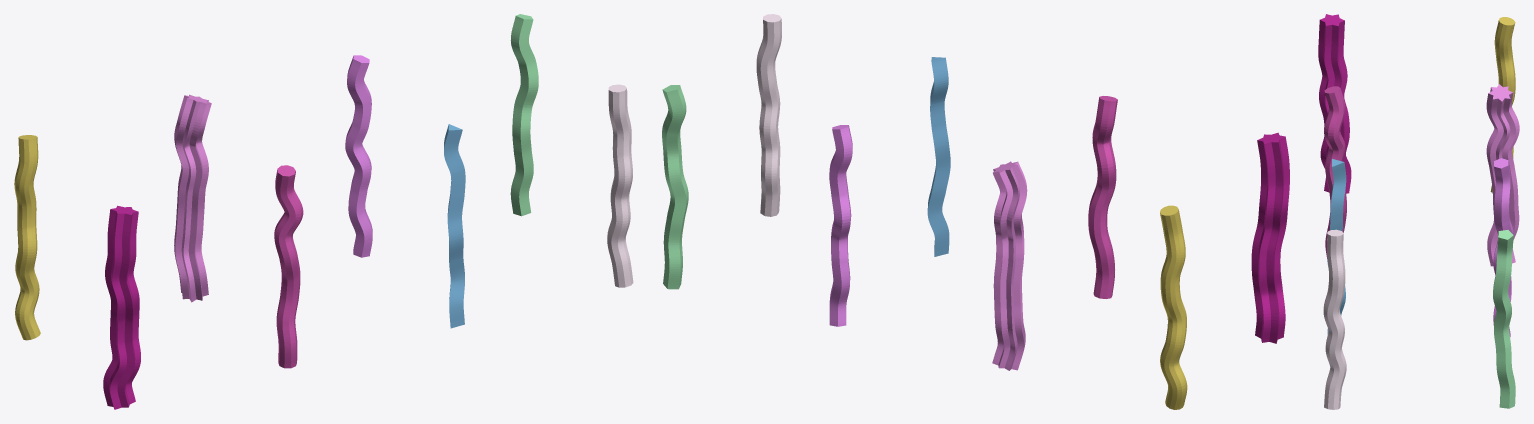
File: phong_mats_1_OpenedSplineTest_2023-06-04-21-23-00.gltf
The picture shows the model from 3 angles, left to right: view 1: azimuth 30°, elevation 25°; view 2: azimuth 150°, elevation 25°; view 3: azimuth 270°, elevation 25°; orthographic projection. The views are drawn at different scales.
Bounding box in the file's own units: 632 × 234 × 239.
